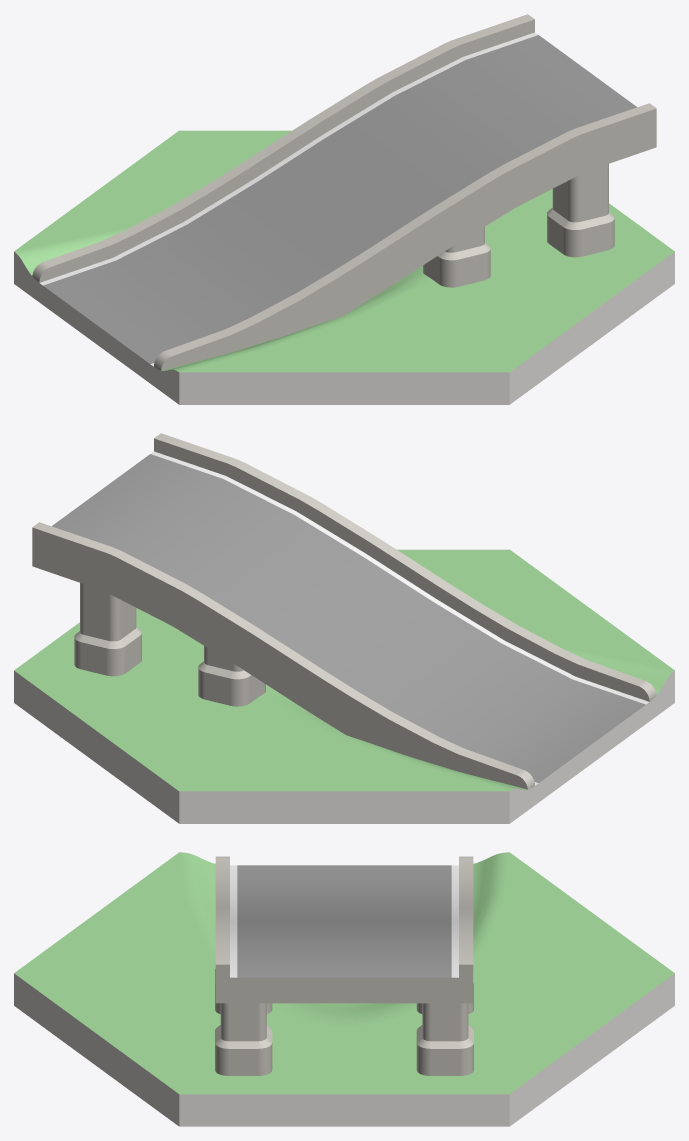
File: TrackBridgeRamp.glb
3 views of the same model, one above another, from view 1: azimuth 30°, elevation 25°; view 2: azimuth 150°, elevation 25°; view 3: azimuth 270°, elevation 25° (orthographic).
Parts seen in each view (by area): view 1: object1; view 2: object1; view 3: object1.
Boxes of the visible parts, bbox=[...] form: object1: bbox=[14, 14, 674, 404]; object1: bbox=[14, 433, 674, 823]; object1: bbox=[14, 852, 674, 1126].
Bounding box in the file's own units: 1 × 0.3125 × 1.15.
